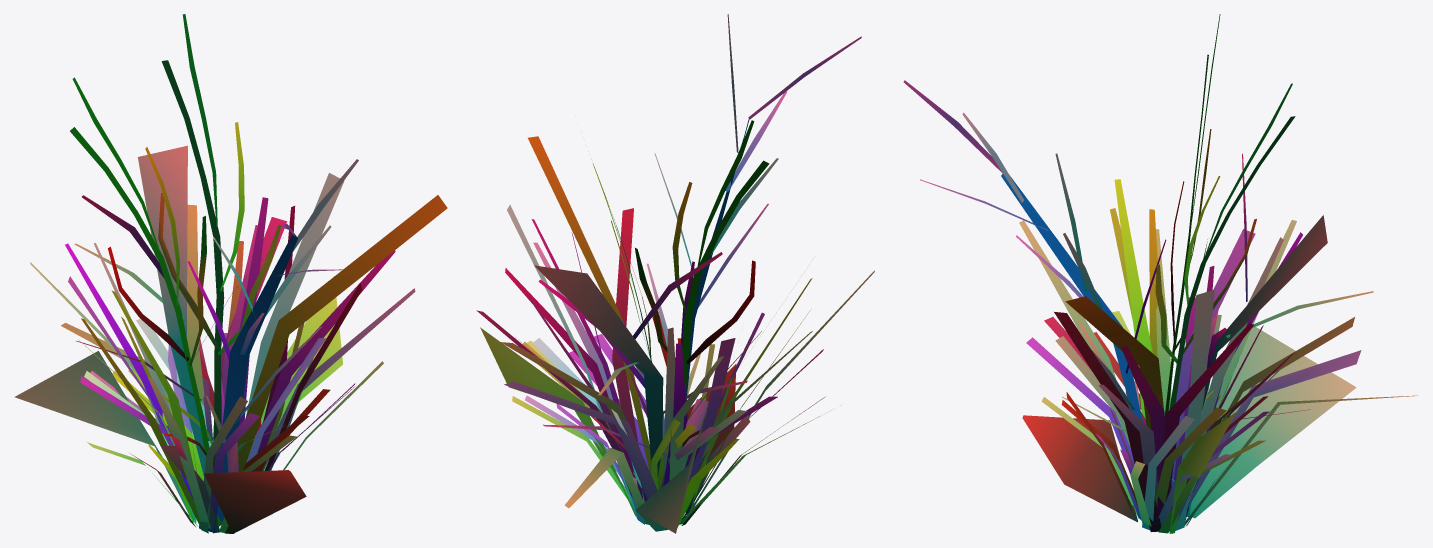
File: Wild_Grass_sjliZ_Mid_sjliZ_VarA_LOD1.fbx
The picture shows the model from 3 angles, left to right: view 1: azimuth 30°, elevation 25°; view 2: azimuth 150°, elevation 25°; view 3: azimuth 270°, elevation 25°; orthographic projection.
Parts seen in each view (by area): view 1: _5434_VarA_LOD2; view 2: _5434_VarA_LOD2; view 3: _5434_VarA_LOD2.
Boxes of the visible parts, x1,y1,x2,y2 form: _5434_VarA_LOD2: (14, 14, 447, 533); _5434_VarA_LOD2: (476, 14, 874, 533); _5434_VarA_LOD2: (903, 14, 1417, 533).
Size of the model in its own units: 91.47 by 119 by 123.
